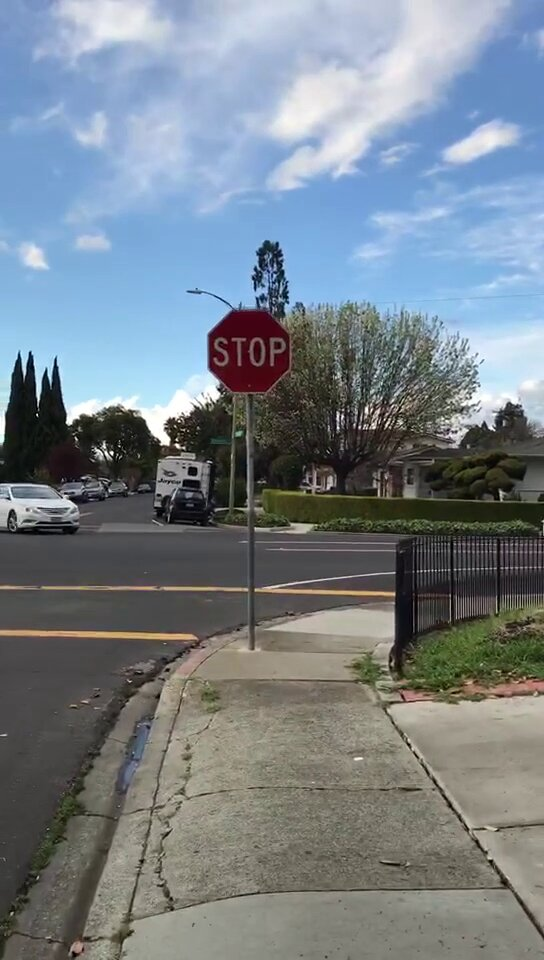stop_sign: (207, 313, 293, 396)
